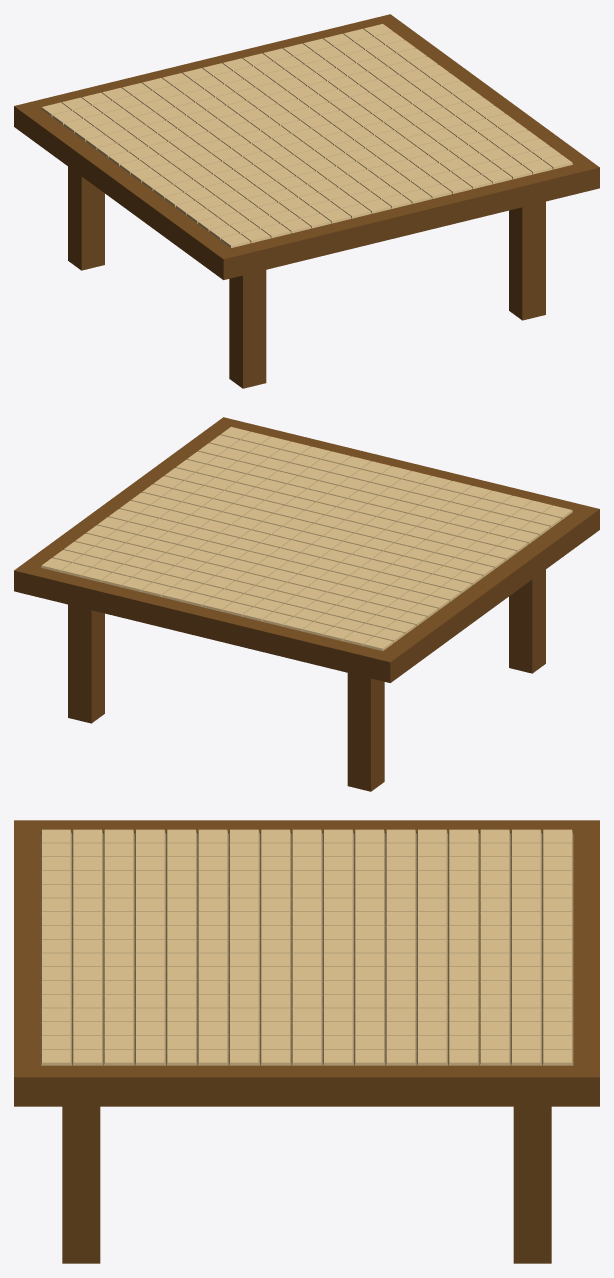
File: meja3_stage5-6_low poly.fbx
3 renders of one model, top to bottom at view 1: azimuth 30°, elevation 25°; view 2: azimuth 150°, elevation 25°; view 3: azimuth 270°, elevation 25°, orthographic. The views are drawn at different scales.
Parts seen in each view (by area): view 1: Cube.022; view 2: Cube.022; view 3: Cube.022.
Part boxes in pixels (box(x1,y1,x2,y2)): Cube.022: box(14, 14, 599, 388); Cube.022: box(14, 417, 599, 791); Cube.022: box(14, 820, 599, 1263).
Size of the model in its own units: 254 by 102 by 263.
